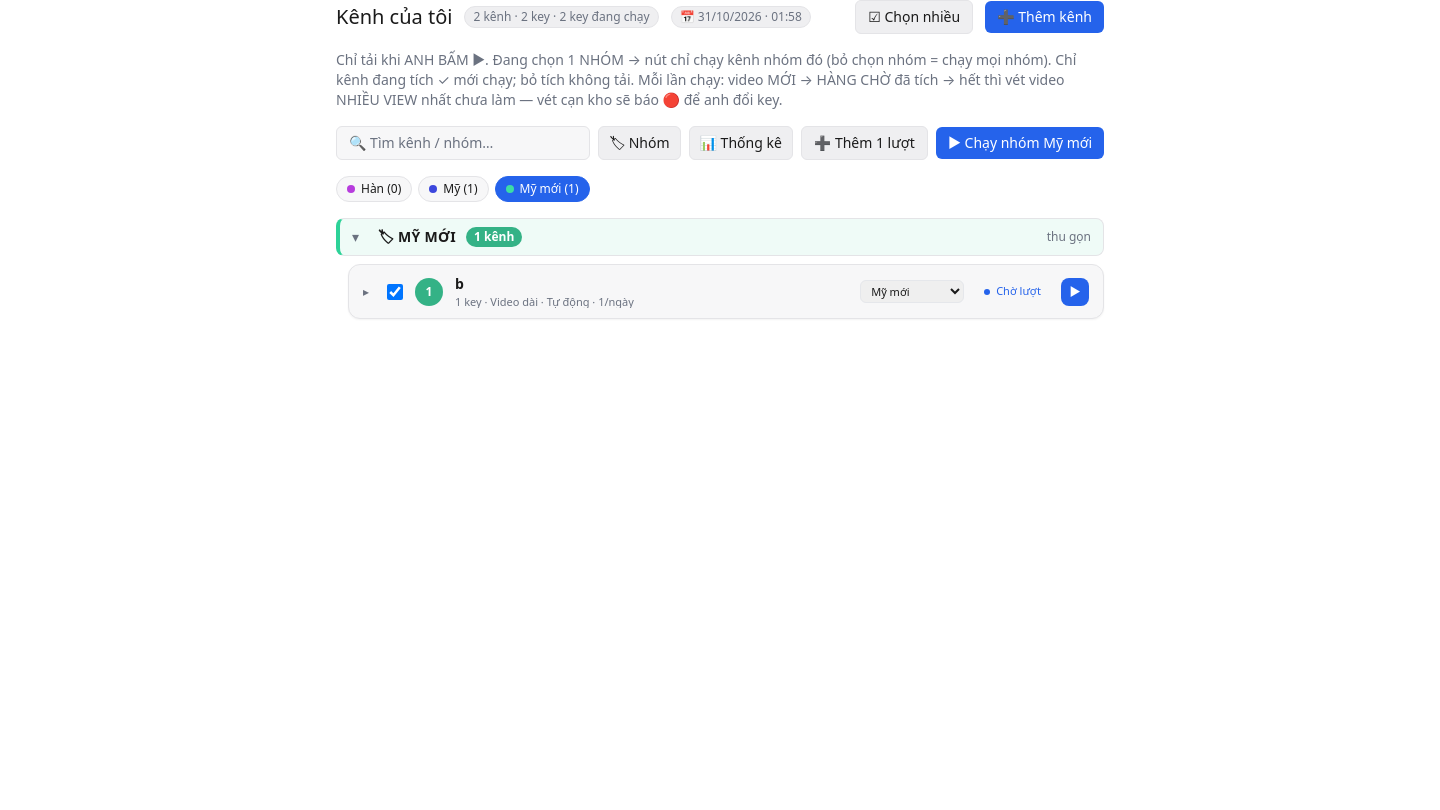
Test: LỖI 1 — thêm kênh phải vào ĐÚNG nhóm đang xem › đang lọc nhóm 'Mỹ mới' → hộp Thêm kênh mặc định 'Mỹ mới'
expect the dropdown is shown: met, box 860,280 -> 964,303
Click the button "➕ Thêm kênh".
click(1045, 17)  # box 985,1 -> 1104,33
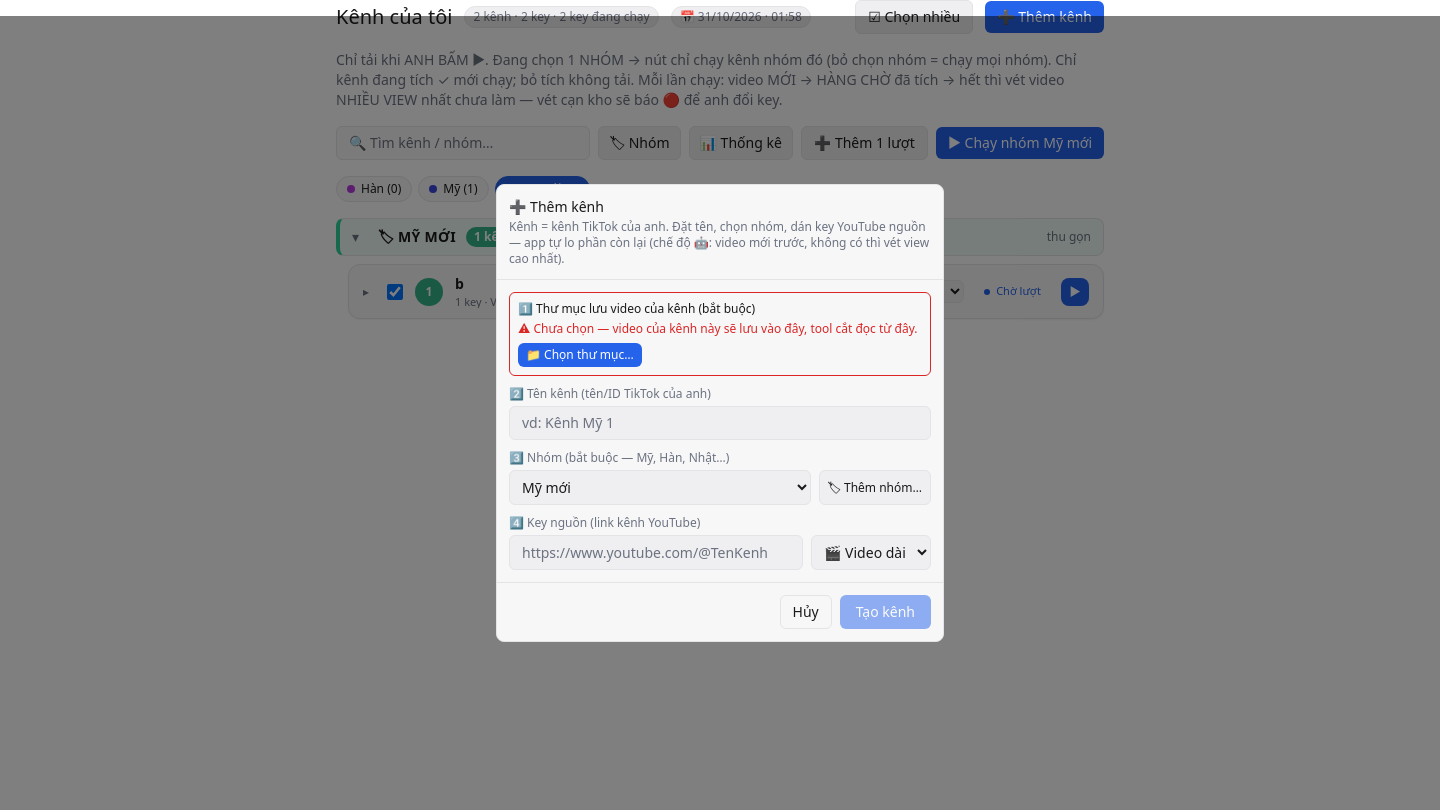
expect the 1st dropdown shows "Mỹ mới": met, box 509,470 -> 810,505
